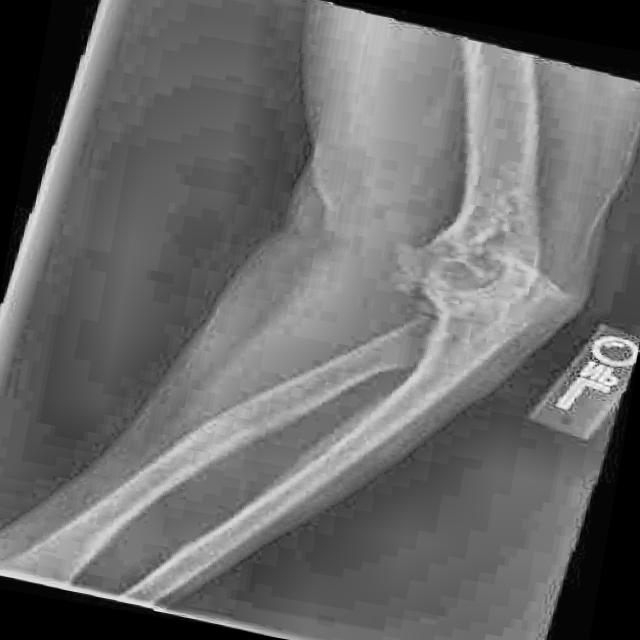elbow positive: (478, 231, 596, 328)
